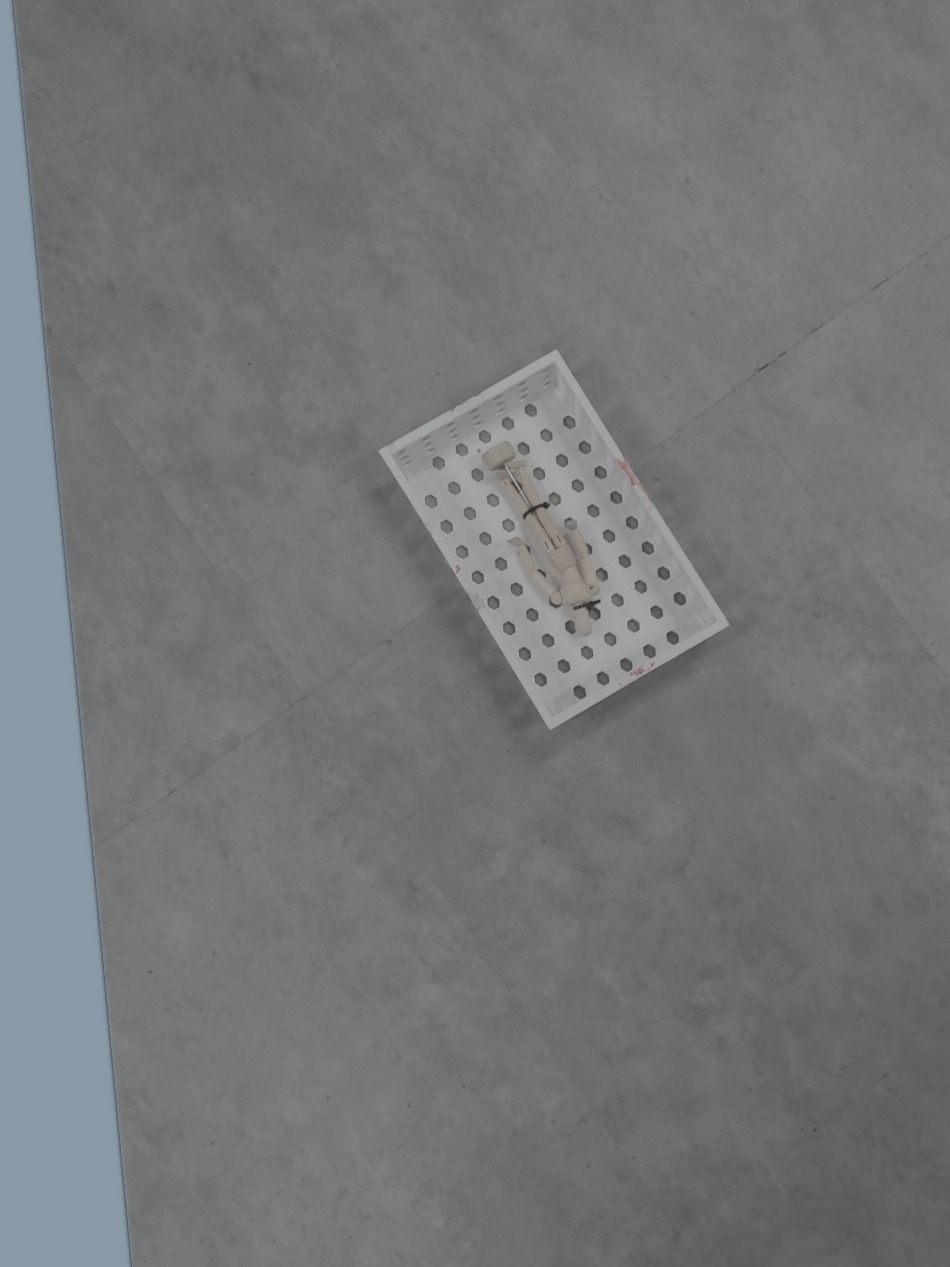basket: (373, 343, 734, 738)
mannequin: (473, 436, 612, 641)
